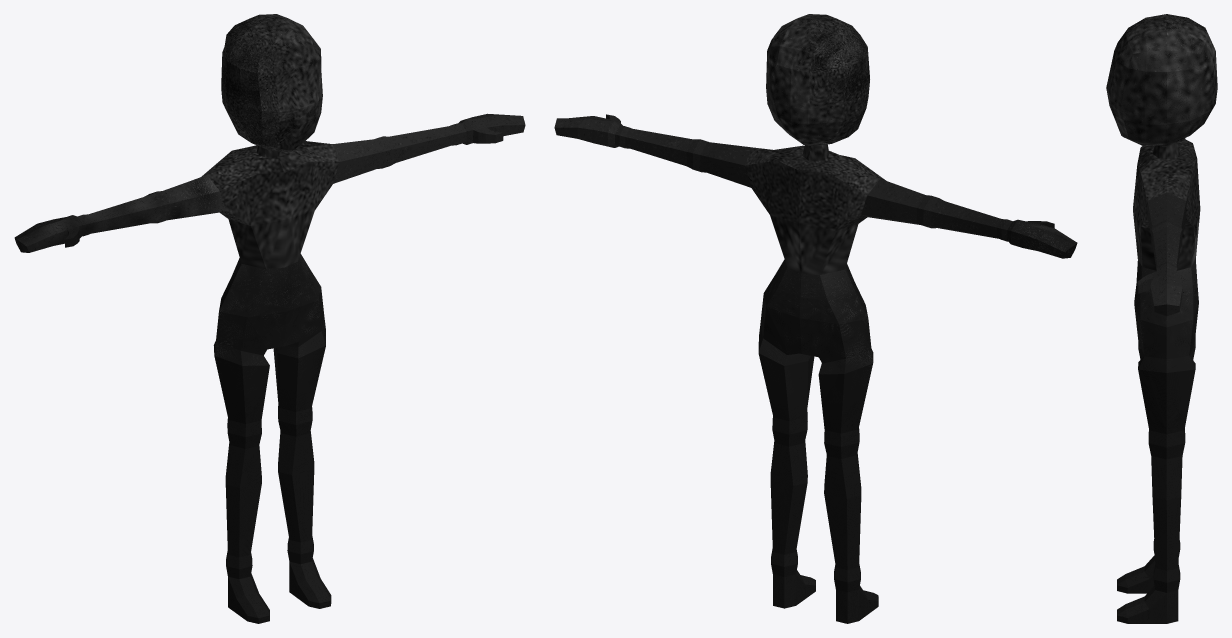
File: Ghost.obj
3 views of the same model, side by side, from view 1: azimuth 30°, elevation 25°; view 2: azimuth 150°, elevation 25°; view 3: azimuth 270°, elevation 25° (orthographic). The views are drawn at different scales.
Parts seen in each view (by area): view 1: Cylinder; view 2: Cylinder; view 3: Cylinder.
Boxes of the visible parts, x1,y1,x2,y2 form: Cylinder: (14, 14, 525, 623); Cylinder: (554, 14, 1077, 623); Cylinder: (1106, 14, 1217, 623).
Bounding box in the file's own units: 7.59 × 8.28 × 1.43.
Materials: 1 (1 with a texture image).
